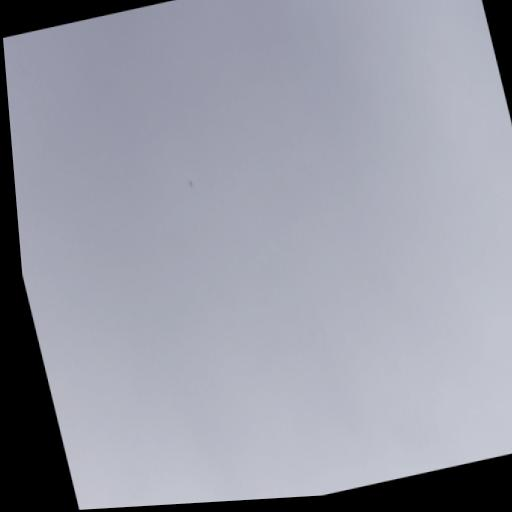drones: (186, 176, 195, 190)
